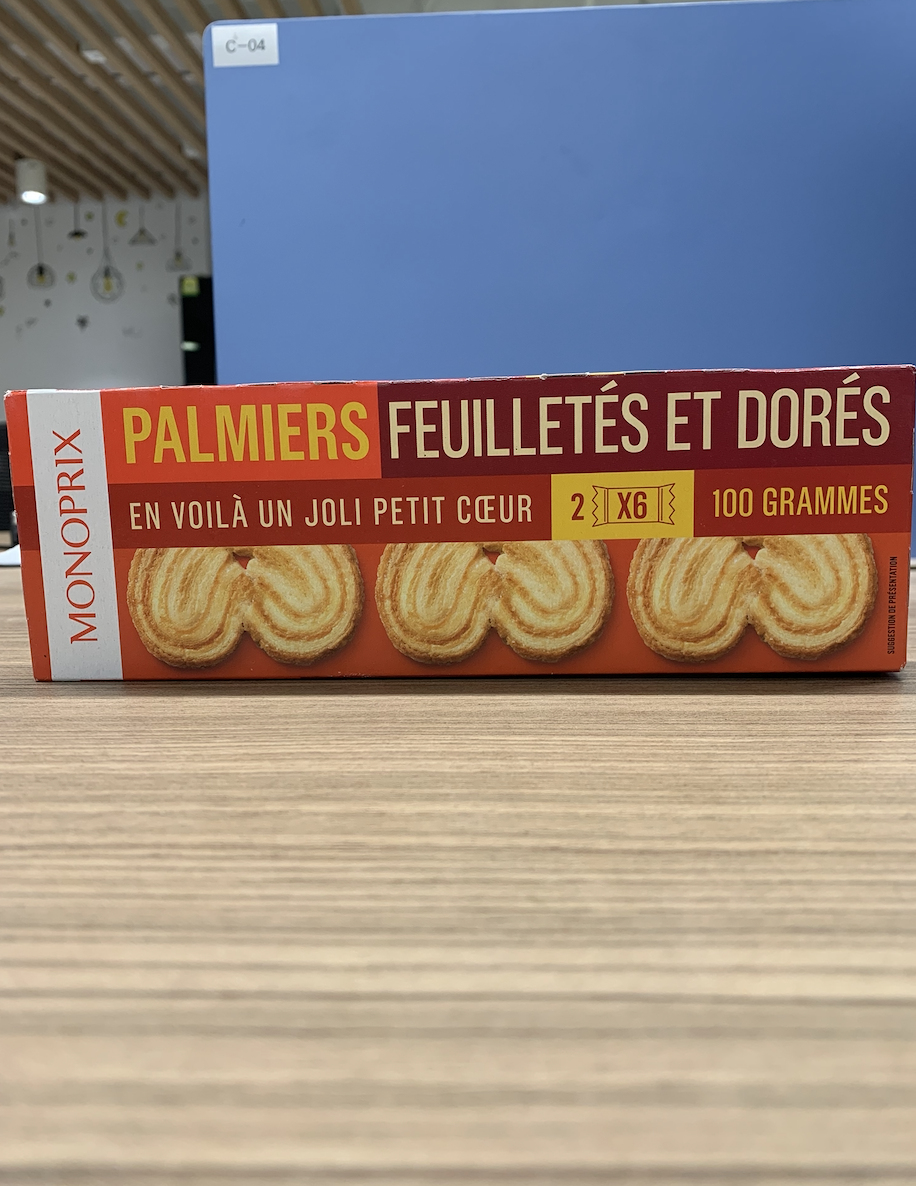cookies_100g-199g: (42, 387, 901, 663)
